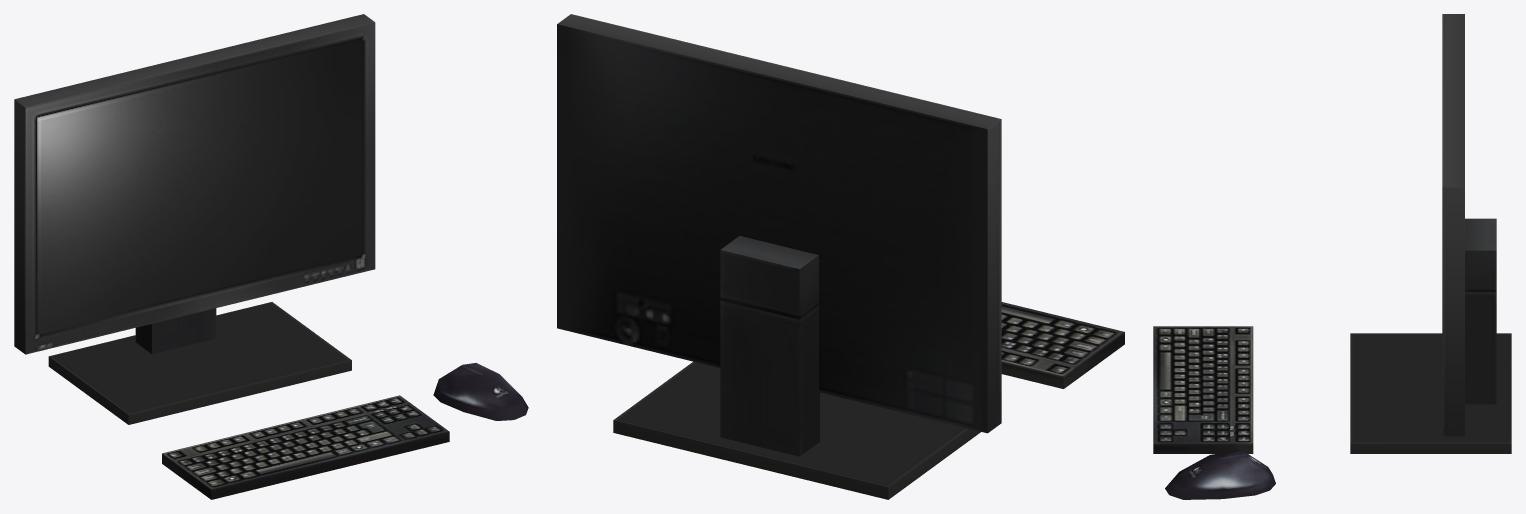
Rendered from Computer.FBX.
The picture shows the model from 3 angles, left to right: view 1: azimuth 30°, elevation 25°; view 2: azimuth 150°, elevation 25°; view 3: azimuth 270°, elevation 25°; orthographic projection. The views are drawn at different scales.
Parts seen in each view (by area): view 1: Computer; view 2: Computer; view 3: Computer.
Part boxes in pixels (x1,y1,x2,y2): Computer: [14, 14, 528, 499]; Computer: [557, 14, 1124, 499]; Computer: [1153, 14, 1511, 499].
Size of the model in its own units: 0.6855 by 0.5209 by 0.5615.
